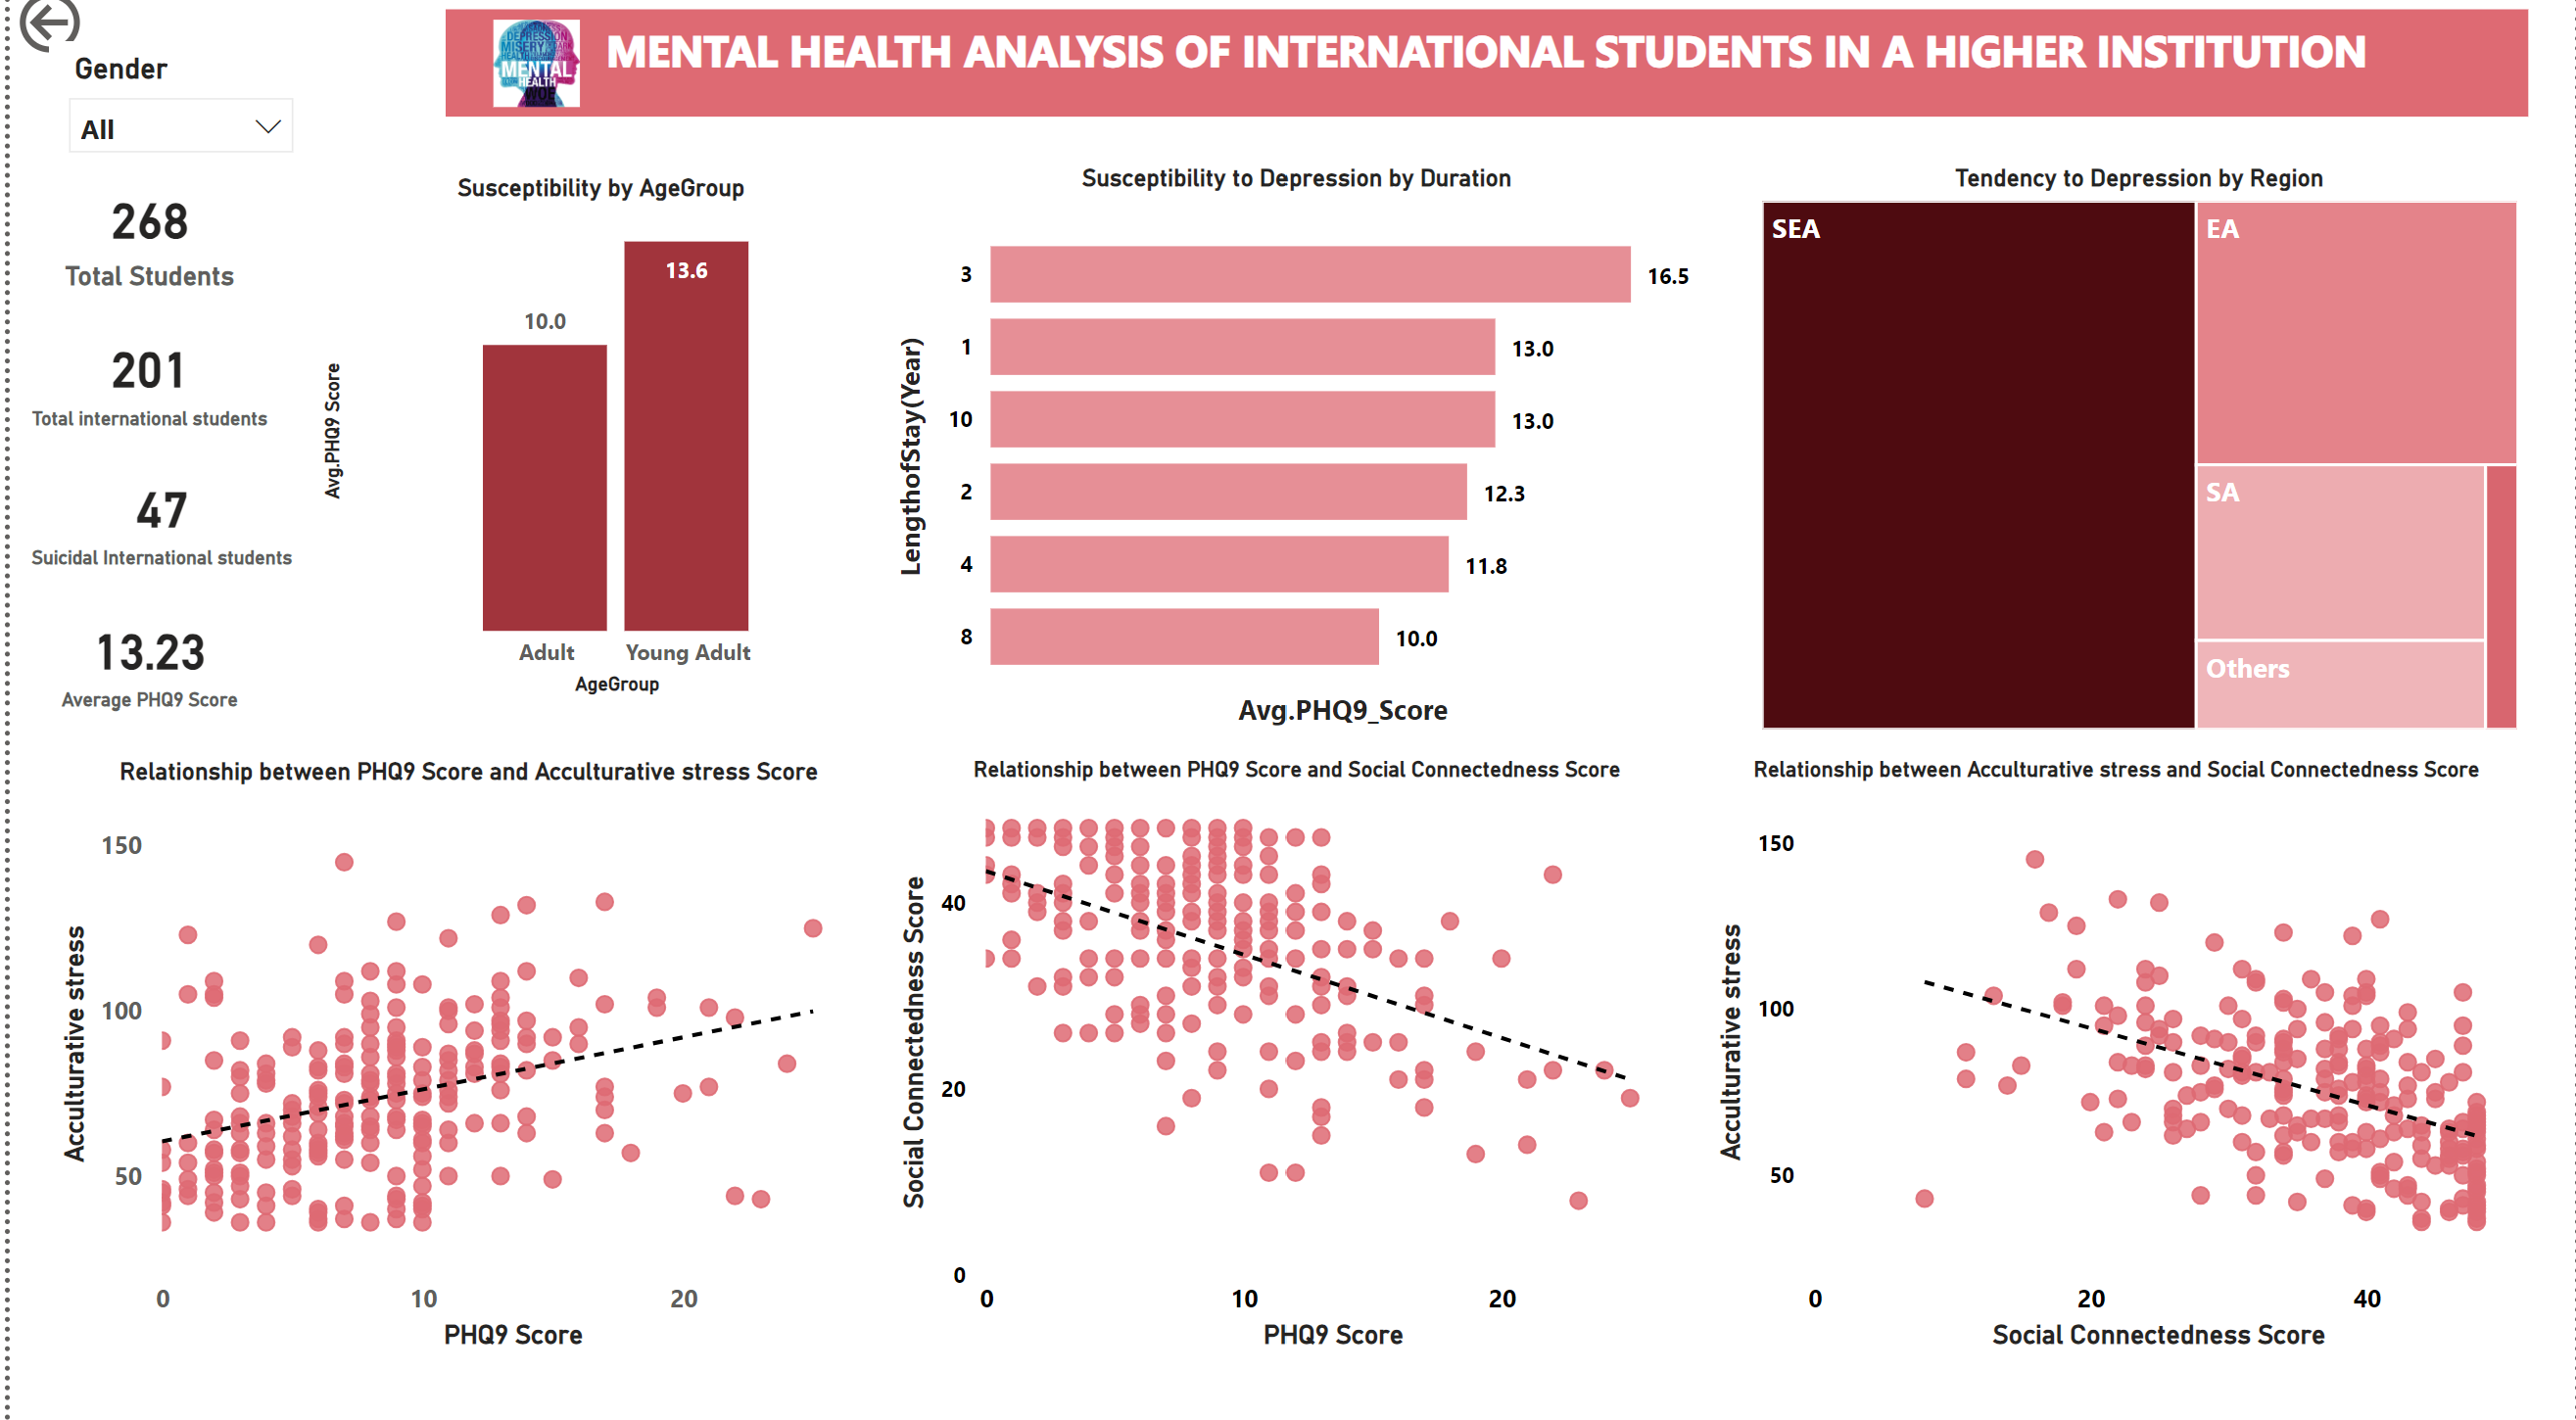

Layout of this report page (visuals, bound fields, positions):
{"tool":"powerbi","page":{"name":"Mental Health","canvas":[1280,720],"ordinal":0},"visuals":[{"type":"scatterChart","title":"Relationship between PHQ9 Score and Acculturative stress Score","fields":{"X":["view_mental_health_japan.ToDep"],"Y":["view_mental_health_japan.ToAS"]},"box":[19.6,386.3,419.3,300.7],"z":0},{"type":"scatterChart","title":"Relationship between PHQ9 Score and Social Connectedness Score","fields":{"X":["view_mental_health_japan.ToDep"],"Y":["view_mental_health_japan.ToSC"]},"box":[438.8,386.3,407.1,300.7],"z":1000},{"type":"scatterChart","title":"Relationship between Acculturative stress and Social Connectedness Score","fields":{"X":["view_mental_health_japan.ToSC"],"Y":["view_mental_health_japan.ToAS"]},"box":[845.9,386.3,410.7,300.7],"z":2000},{"type":"treemap","title":"Tendency to Depression by Region","fields":{"Group":["view_mental_health_japan.Region"],"Values":["MeasureTable.Avg.PHQ9_Suicidal_Int"]},"box":[869,90.3,387.2,286.8],"z":3000},{"type":"clusteredBarChart","title":"Susceptibility to Depression by Duration","fields":{"Category":["view_mental_health_japan.Stay"],"Y":["MeasureTable.Avg.PHQ9_Suicidal_Int"]},"box":[439,90,407,285],"z":4000},{"type":"actionButton","box":[0,0,100,40],"z":5000},{"type":"card","fields":{"Values":["MeasureTable.Total Students"]},"box":[0,90.5,139.4,70.9],"z":6000},{"type":"card","fields":{"Values":["MeasureTable.IntStudentsandSuicidal"]},"box":[0,232.3,151.6,70.9],"z":7000},{"type":"card","fields":{"Values":["MeasureTable.Total international students"]},"box":[0,162.6,139.4,70.9],"z":8000},{"type":"textbox","box":[217.6,13.4,1039,53.8],"z":9000},{"type":"card","fields":{"Values":["MeasureTable.Avg.PHQ9_Suicidal_Int"]},"box":[0,303.2,139.4,70.9],"z":10000},{"type":"columnChart","title":"Susceptibility by AgeGroup","fields":{"Y":["MeasureTable.Avg.PHQ9_Suicidal_Int"],"Category":["view_mental_health_japan.AgeGroup","view_mental_health_japan.Age"]},"box":[151.6,95.3,287.3,265.3],"z":11000},{"type":"image","box":[229.8,13.4,66,53.8],"z":12000},{"type":"slicer","fields":{"Values":["view_mental_health_japan.Gender"]},"box":[19.6,29.3,132,61.1],"z":13000}]}

Visuals, with their boxes on the page's 1280x720 design canvas (x1, y1, x2, y2). These are canvas units, not pixel positions in the 2576x1420 screenshot, which may show the page scaled, cropped or inside an application window:
"Relationship between PHQ9 Score and Acculturative stress Score" scatterChart: 20/386/439/687
"Relationship between PHQ9 Score and Social Connectedness Score" scatterChart: 439/386/846/687
"Relationship between Acculturative stress and Social Connectedness Score" scatterChart: 846/386/1257/687
"Tendency to Depression by Region" treemap: 869/90/1256/377
"Susceptibility to Depression by Duration" clusteredBarChart: 439/90/846/375
actionButton: 0/0/100/40
card - MeasureTable.Total Students: 0/90/139/161
card - MeasureTable.IntStudentsandSuicidal: 0/232/152/303
card - MeasureTable.Total international students: 0/163/139/234
textbox: 218/13/1257/67
card - MeasureTable.Avg.PHQ9_Suicidal_Int: 0/303/139/374
"Susceptibility by AgeGroup" columnChart: 152/95/439/361
image: 230/13/296/67
slicer - view_mental_health_japan.Gender: 20/29/152/90
